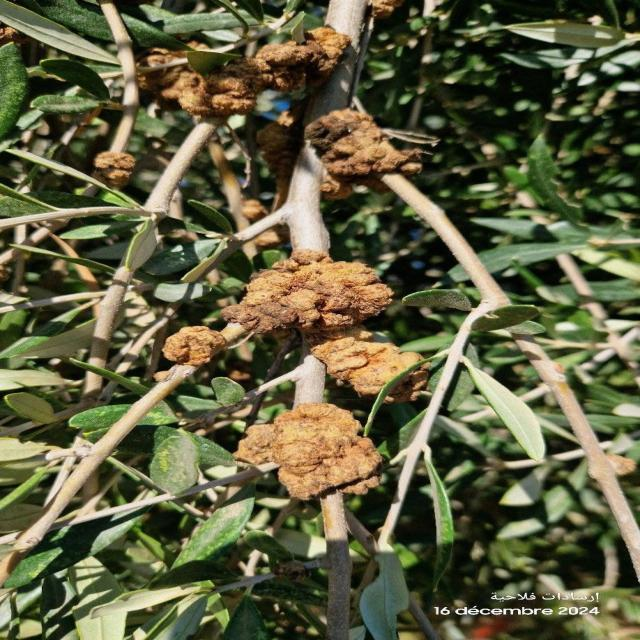Tuberculosis: (139, 27, 350, 122), (234, 402, 380, 500), (224, 250, 392, 334), (305, 108, 424, 200), (311, 336, 420, 396), (162, 327, 221, 368), (92, 150, 137, 190)
